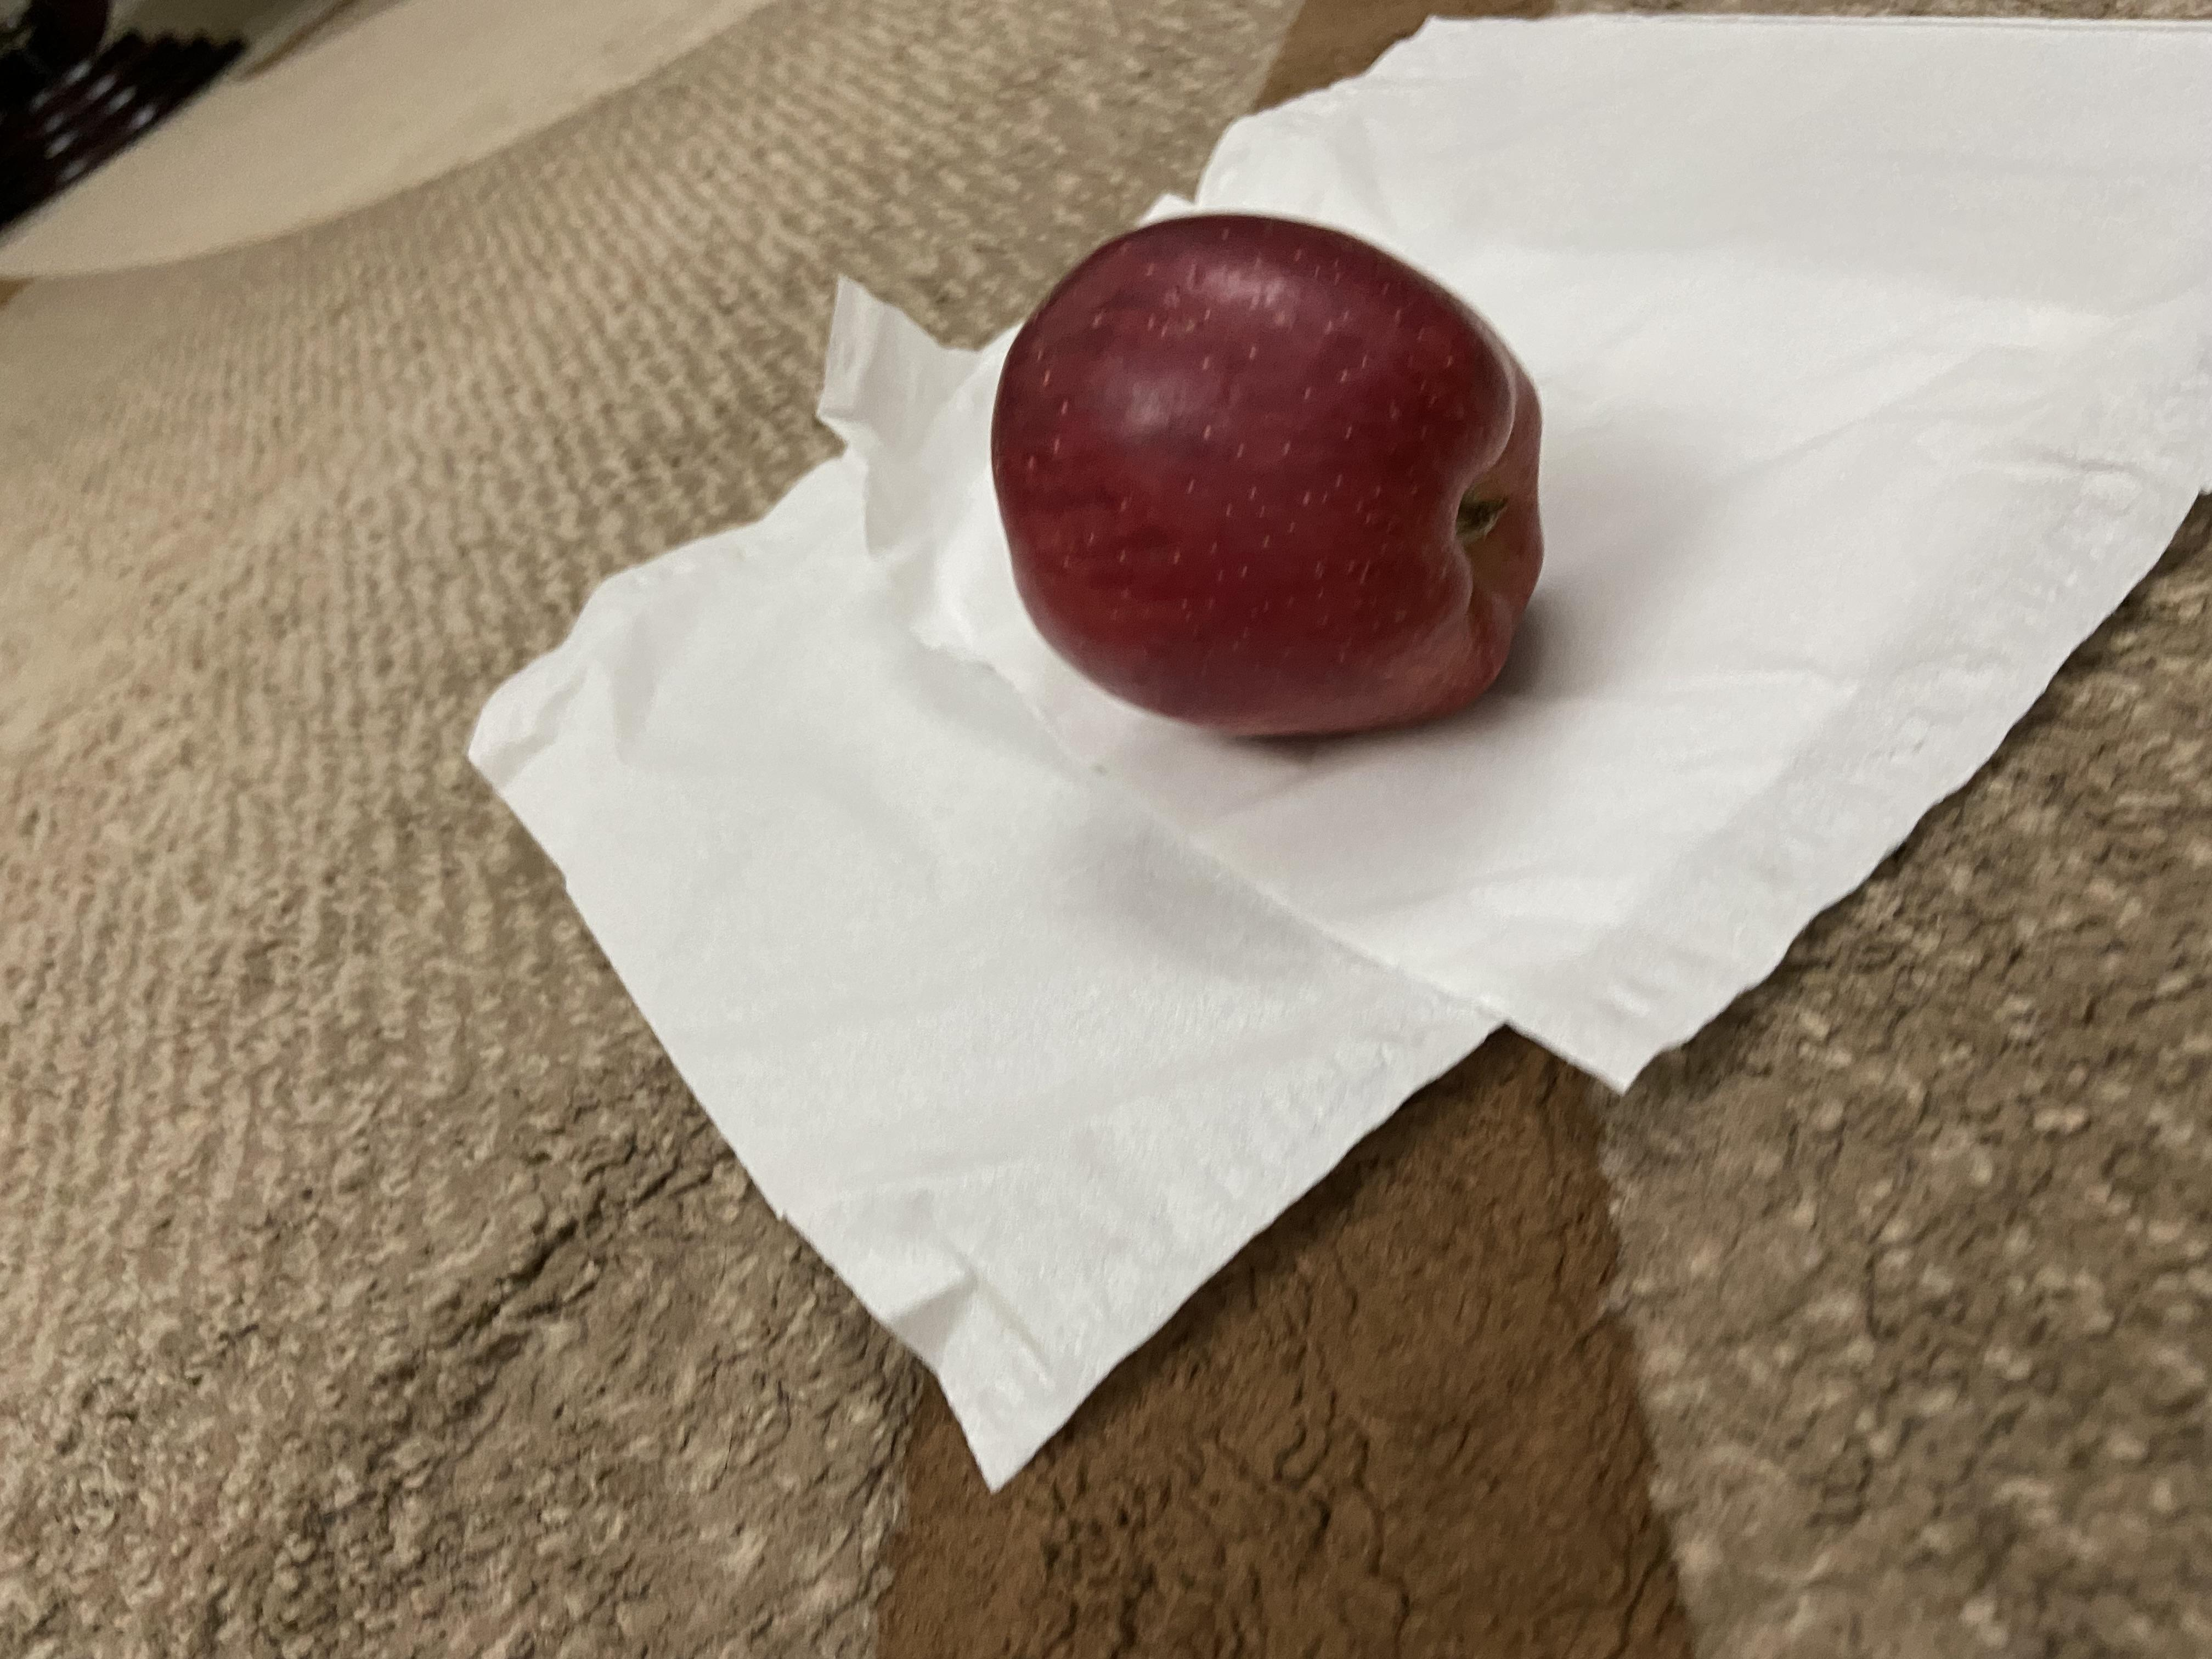Apple: (1211, 741, 1939, 1173)
